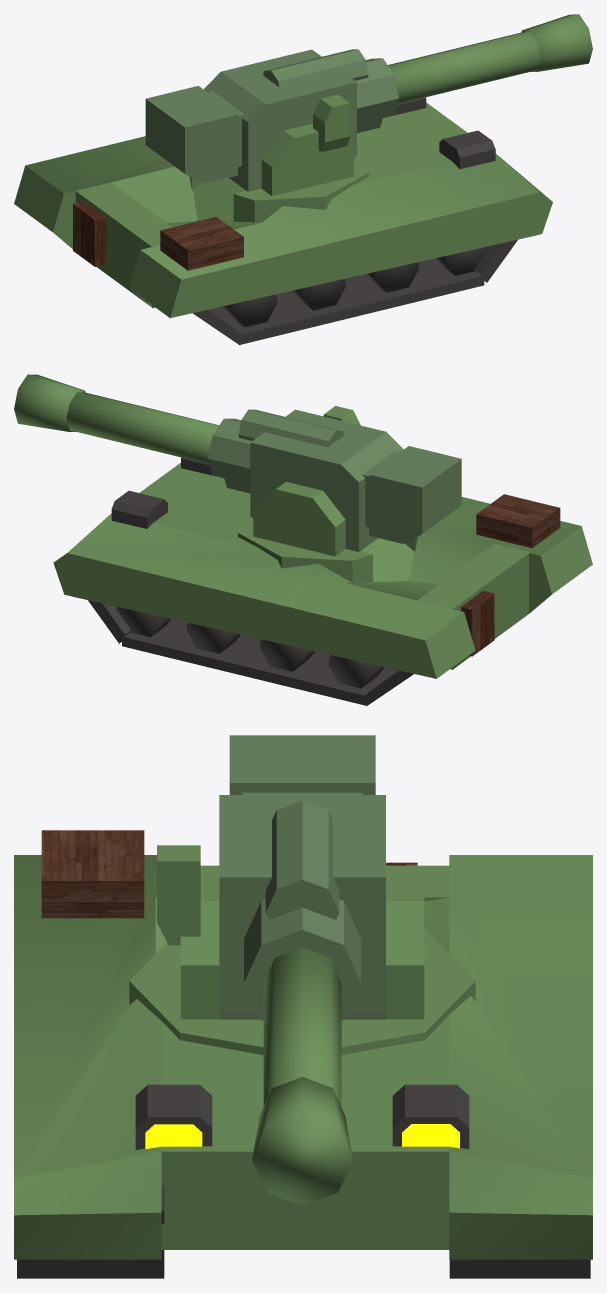
File: TL_mortar_fix.glb
The picture shows the model from 3 angles, top to bottom: view 1: azimuth 30°, elevation 25°; view 2: azimuth 150°, elevation 25°; view 3: azimuth 270°, elevation 25°; orthographic projection. The views are drawn at different scales.
Parts seen in each view (by area): view 1: Cube.007, Cube.003, Cylinder.010, Cylinder; view 2: Cube.007, Cube.003, Cylinder.010, Cylinder; view 3: Cube.007, Cube.003, Cylinder, Cylinder.010.
Part boxes in pixels (x1,y1,x2,y2): Cube.007: (14,97,552,318); Cube.003: (145,14,592,191); Cylinder.010: (193,239,517,345); Cylinder: (189,94,368,222); Cube.007: (53,457,592,678); Cube.003: (14,374,461,551); Cylinder.010: (88,600,413,706); Cylinder: (238,406,418,582); Cube.007: (14,830,592,1259); Cube.003: (219,735,385,1205); Cylinder: (129,845,475,1054); Cylinder.010: (17,1185,590,1278).
Bounding box in the file's own units: 8.26 × 3.11 × 4.59.
Materials: 5 (1 with a texture image).
